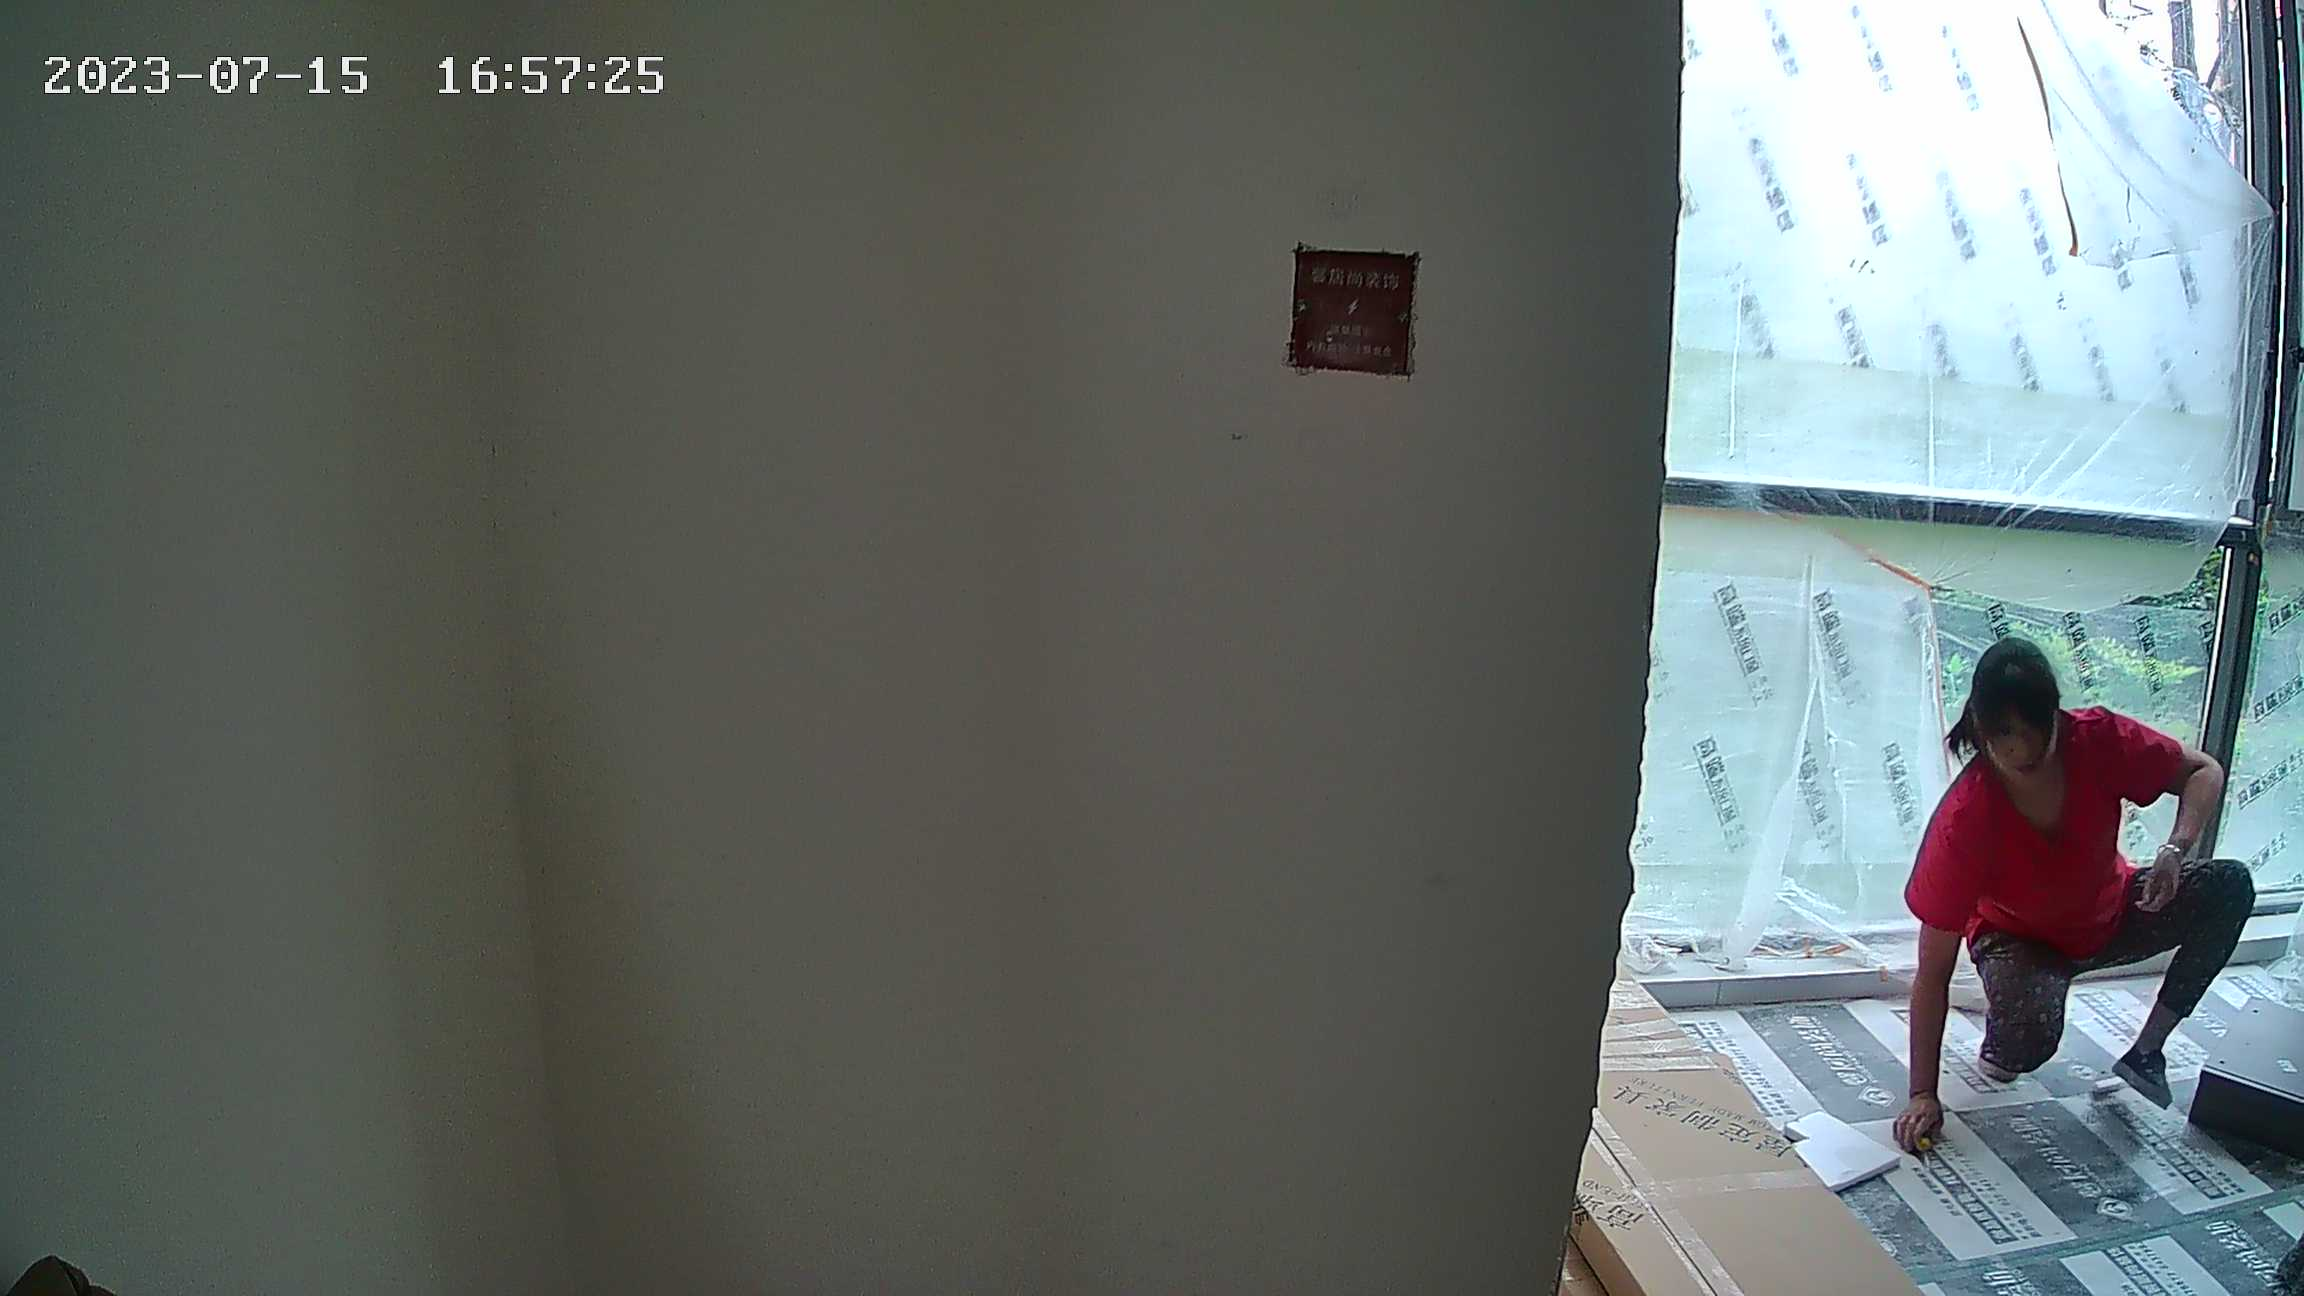people: (1893, 631, 2259, 1162)
window: (1673, 1, 2304, 946)
